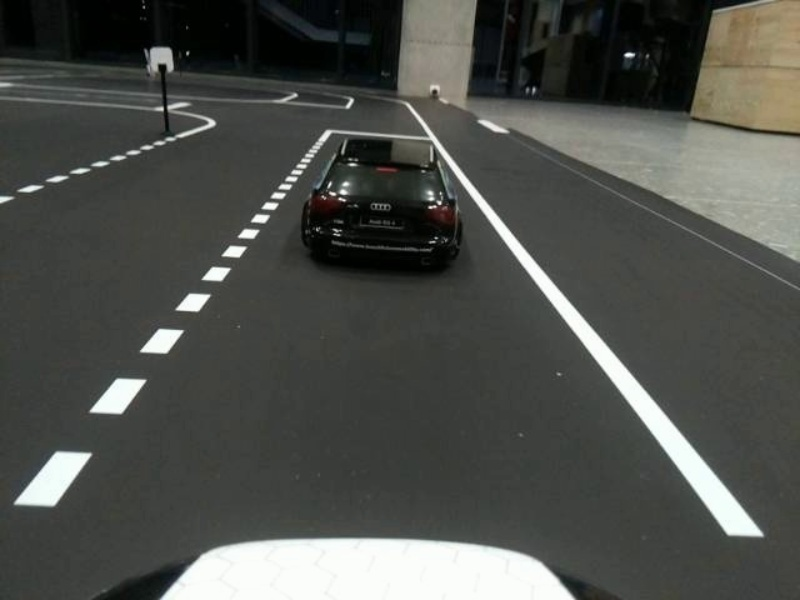car: (295, 132, 468, 276)
